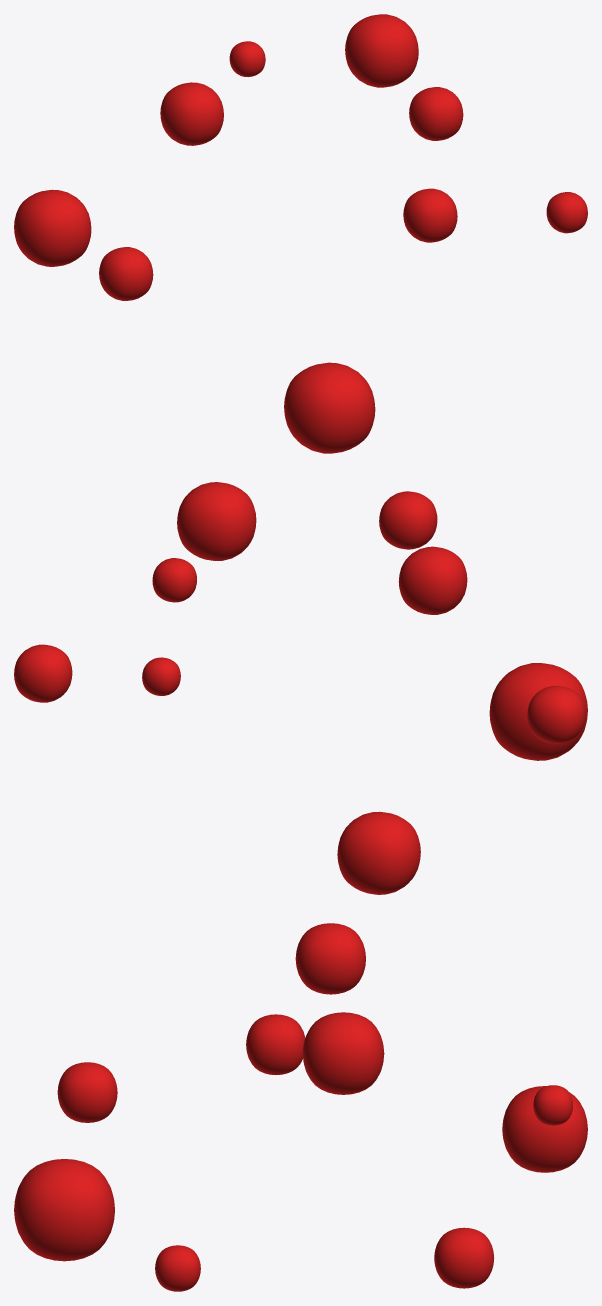
The model's file is PdV_Model_Bush.fbx.
3 renders of one model, top to bottom at view 1: azimuth 30°, elevation 25°; view 2: azimuth 150°, elevation 25°; view 3: azimuth 270°, elevation 25°, orthographic. The views are drawn at different scales.
Visible parts, largest first — view 1: Cube.012, Cube.009, Cube.010, Cube.011, Cube.007, Cube.005, Cube.008, Cube.013, Cube.006; view 2: Cube.009, Cube.012, Cube.010, Cube.011, Cube.007, Cube.008, Cube.005, Cube.013, Cube.006; view 3: Cube.012, Cube.010, Cube.009, Cube.011, Cube.007, Cube.005, Cube.008, Cube.013, Cube.006.
Part boxes in pixels (x1=…): Cube.012: x1=284, y1=362, x2=375, y2=453; Cube.009: x1=14, y1=189, x2=91, y2=266; Cube.010: x1=345, y1=14, x2=418, y2=87; Cube.011: x1=160, y1=82, x2=223, y2=145; Cube.007: x1=403, y1=188, x2=457, y2=242; Cube.005: x1=409, y1=87, x2=463, y2=140; Cube.008: x1=99, y1=247, x2=153, y2=300; Cube.013: x1=546, y1=192, x2=587, y2=233; Cube.006: x1=229, y1=41, x2=265, y2=76; Cube.009: x1=337, y1=811, x2=420, y2=894; Cube.012: x1=489, y1=663, x2=587, y2=760; Cube.010: x1=177, y1=482, x2=256, y2=560; Cube.011: x1=398, y1=546, x2=467, y2=614; Cube.007: x1=379, y1=491, x2=437, y2=549; Cube.008: x1=527, y1=685, x2=585, y2=743; Cube.005: x1=14, y1=644, x2=72, y2=702; Cube.013: x1=152, y1=558, x2=196, y2=602; Cube.006: x1=142, y1=657, x2=180, y2=695; Cube.012: x1=14, y1=1159, x2=114, y2=1261; Cube.010: x1=302, y1=1012, x2=384, y2=1094; Cube.009: x1=502, y1=1086, x2=587, y2=1172; Cube.011: x1=295, y1=923, x2=365, y2=994; Cube.007: x1=57, y1=1062, x2=117, y2=1122; Cube.005: x1=434, y1=1227, x2=494, y2=1288; Cube.008: x1=246, y1=1014, x2=305, y2=1074; Cube.013: x1=155, y1=1245, x2=200, y2=1291; Cube.006: x1=533, y1=1085, x2=572, y2=1125.
Size of the model in its own units: 787 by 788 by 509.
